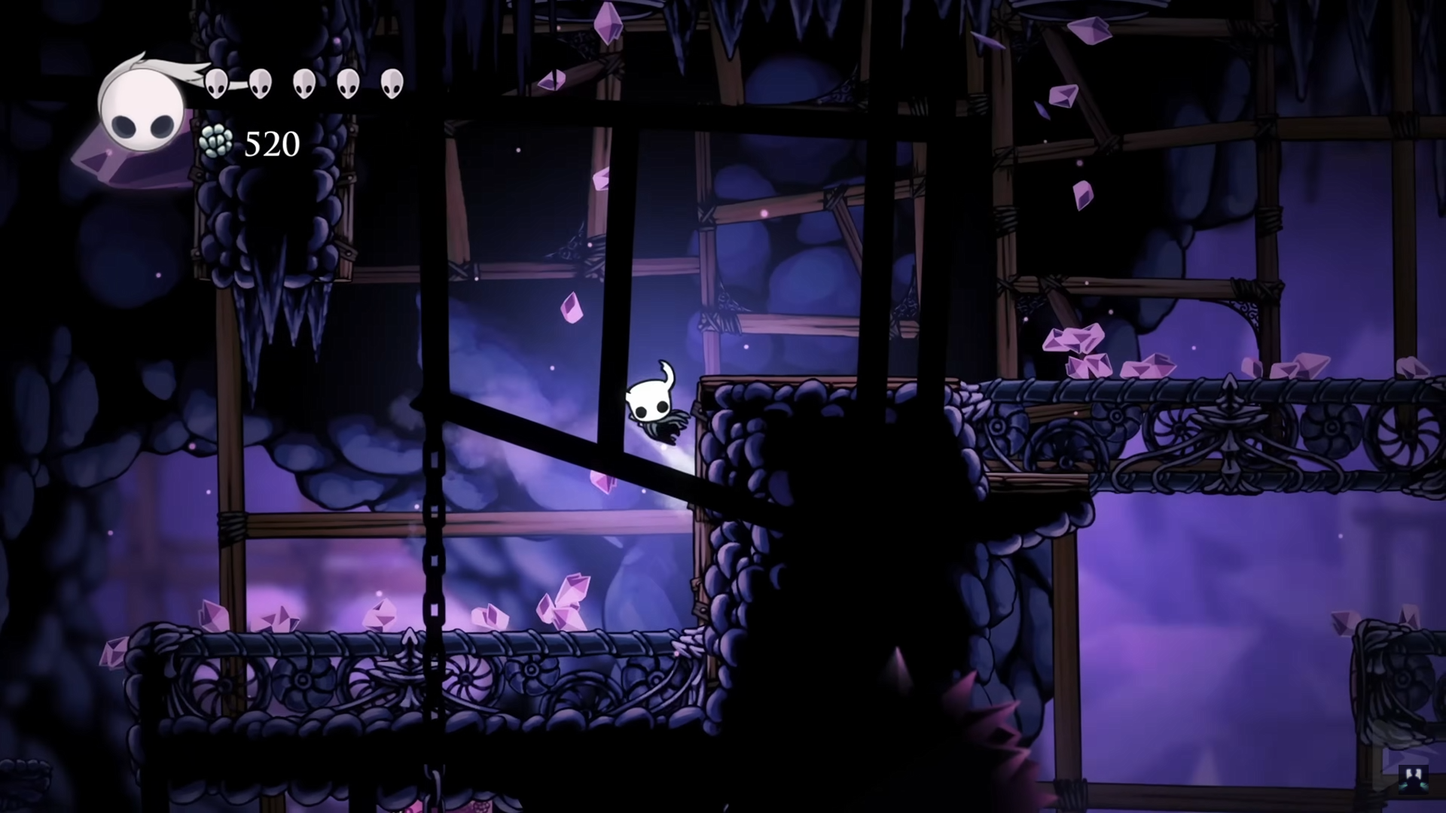HK: (619, 355, 682, 455)
